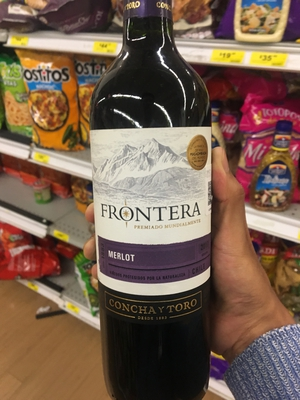frontera merlot: (88, 24, 236, 400)
